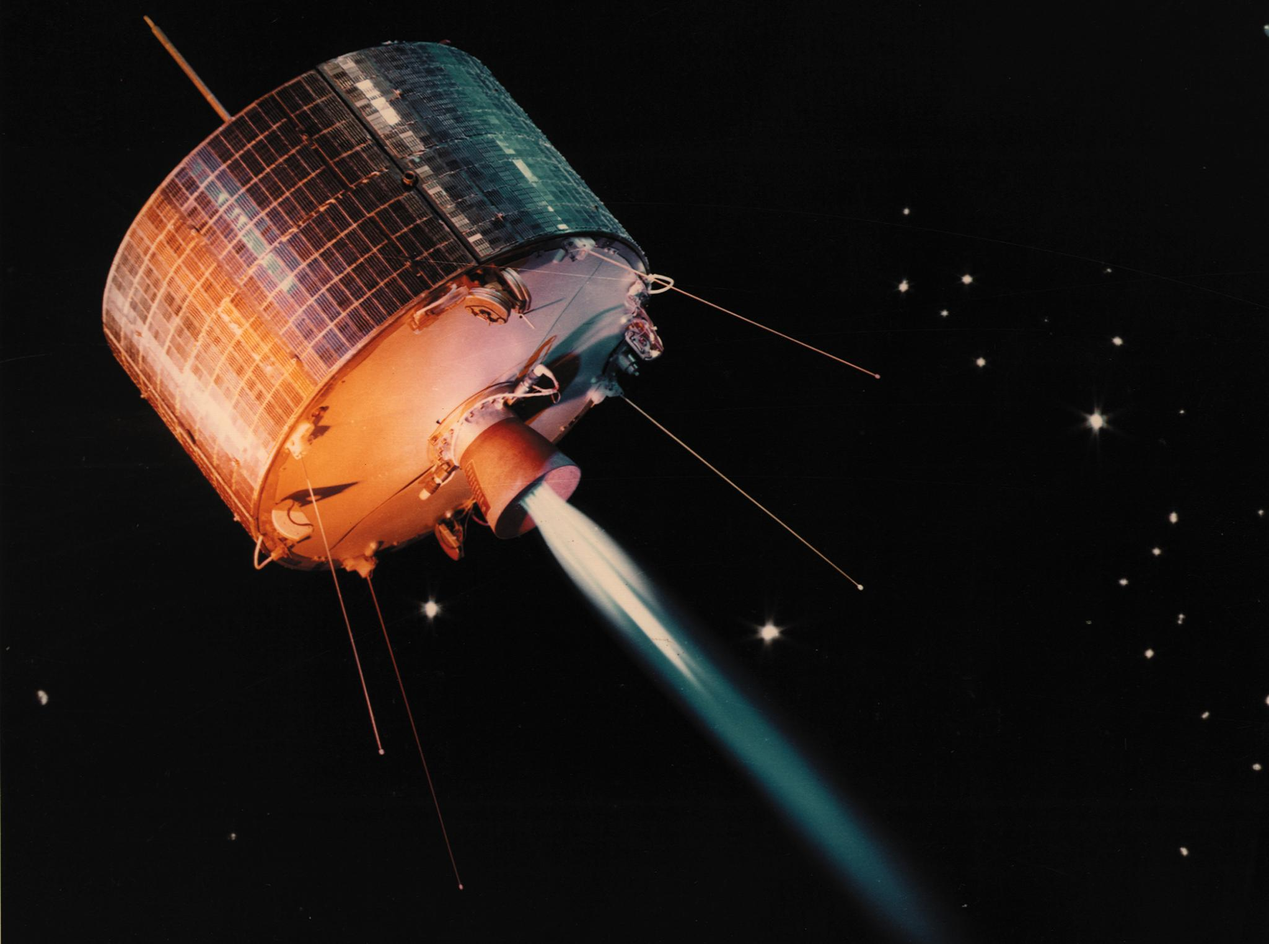antenna: (620, 393, 866, 593), (583, 247, 881, 381), (366, 575, 467, 893), (300, 455, 387, 759)
body: (97, 41, 651, 575)
solar: (113, 69, 493, 522), (315, 41, 648, 264)
thruster: (458, 415, 583, 541)
